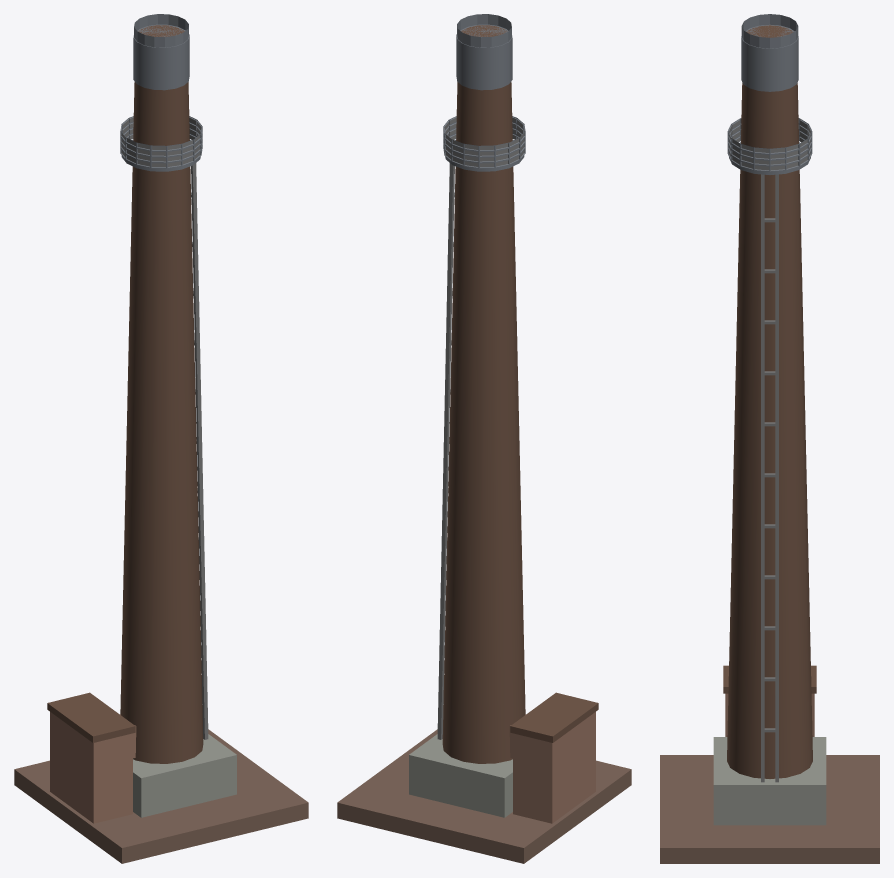
The model's file is mashup-chimney-mid-prebuilt_close.fbx.
3 views of the same model, side by side, from view 1: azimuth 30°, elevation 25°; view 2: azimuth 150°, elevation 25°; view 3: azimuth 270°, elevation 25° (orthographic).
Parts seen in each view (by area): view 1: a1023.Chimney.001; view 2: a1023.Chimney.001; view 3: a1023.Chimney.001.
Part boxes in pixels (<box>): a1023.Chimney.001: <box>14,14,308,863</box>; a1023.Chimney.001: <box>337,14,631,863</box>; a1023.Chimney.001: <box>660,14,879,863</box>.
Bounding box in the file's own units: 7.4 × 29.4 × 7.4.
